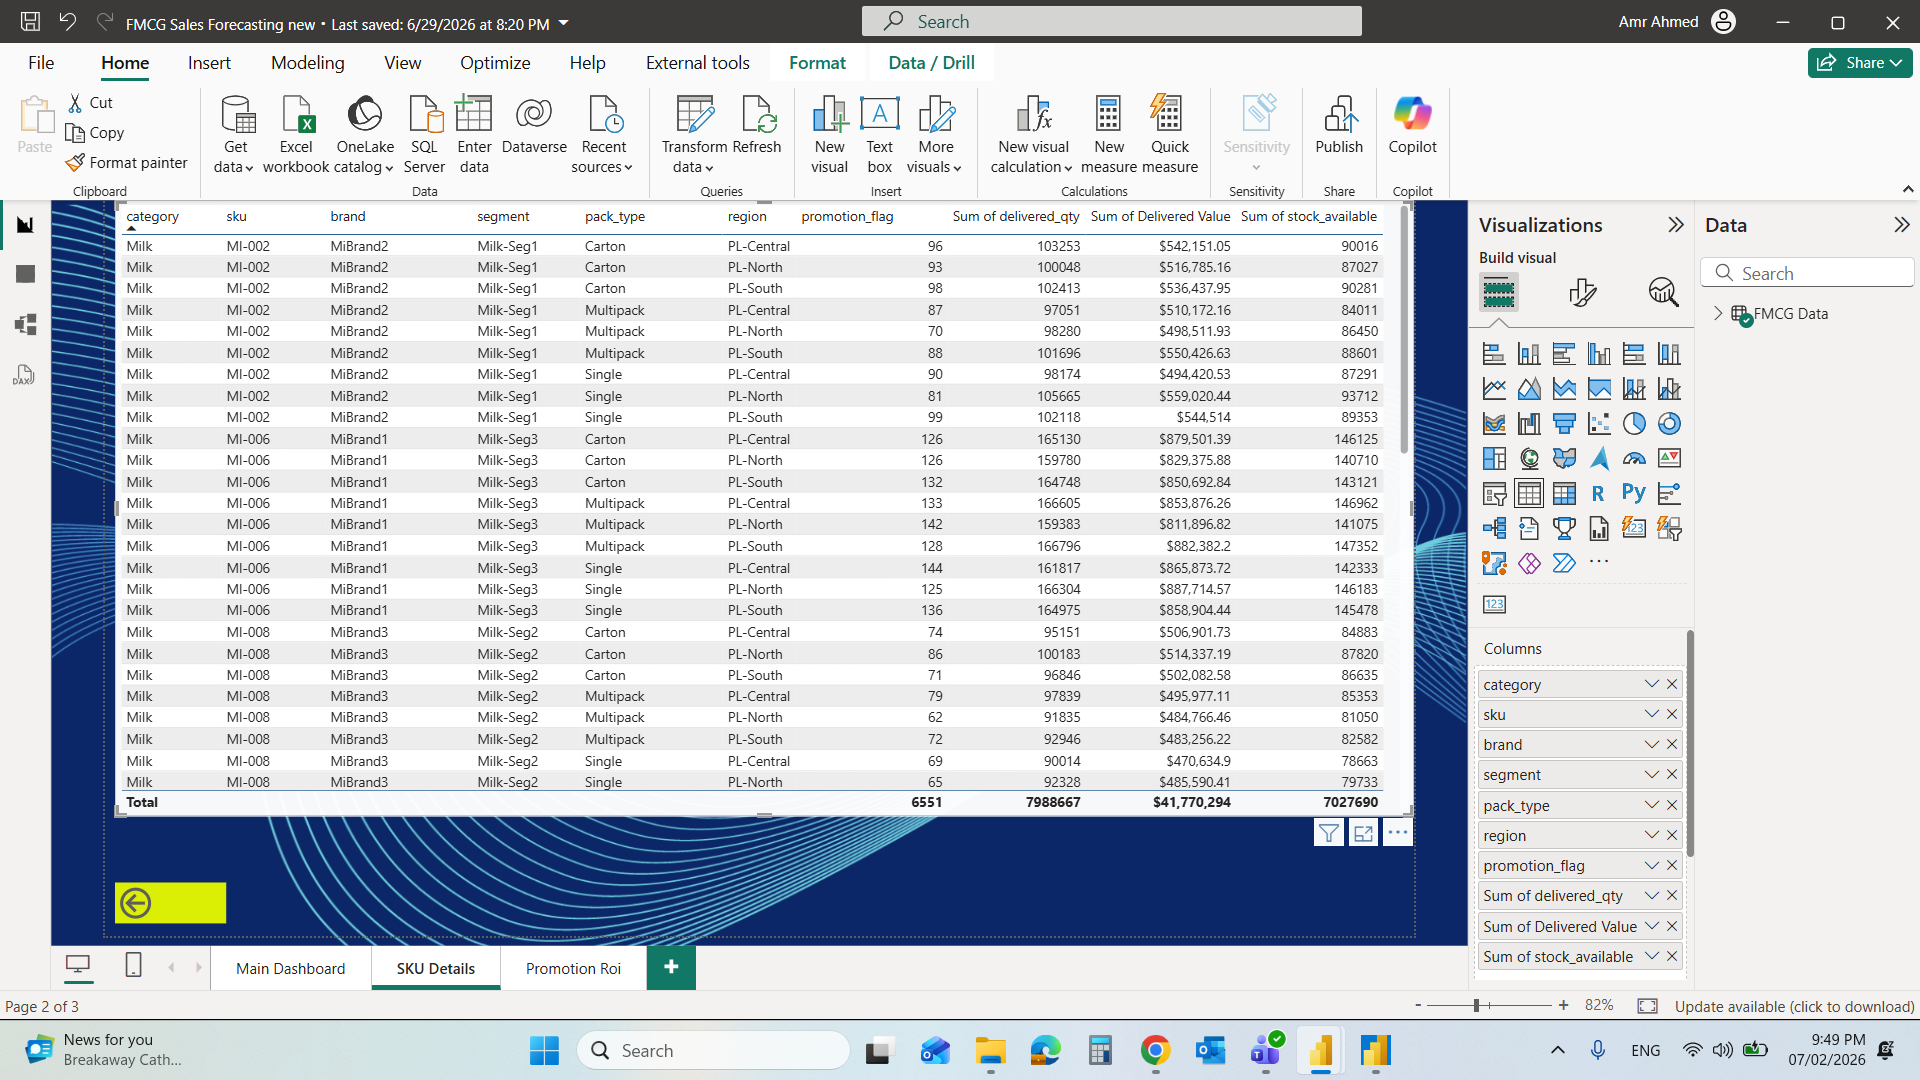

What the dashboard file says about the page in this screenshot:
{"tool":"powerbi","page":{"name":"SKU Details","canvas":[1280,720],"ordinal":1},"visuals":[{"type":"tableEx","fields":{"Values":["FMCG_2022_2024.category","FMCG_2022_2024.sku","FMCG_2022_2024.brand","FMCG_2022_2024.segment","FMCG_2022_2024.pack_type","FMCG_2022_2024.region","Sum(FMCG_2022_2024.promotion_flag)","Sum(FMCG_2022_2024.delivered_qty)","Sum(FMCG_2022_2024.Delivered Qty Price)","Sum(FMCG_2022_2024.stock_available)"]},"box":[9.8,0,1270.5,419.4],"z":0},{"type":"actionButton","box":[9.8,667.7,108.8,40.4],"z":1000}]}

Visuals, with their boxes on the page's 1280x720 design canvas (x1, y1, x2, y2). These are canvas units, not pixel positions in the 1920x1080 screenshot, which may show the page scaled, cropped or inside an application window:
tableEx - FMCG_2022_2024.category x FMCG_2022_2024.sku: crop(10, 0, 1280, 419)
actionButton: crop(10, 668, 119, 708)
